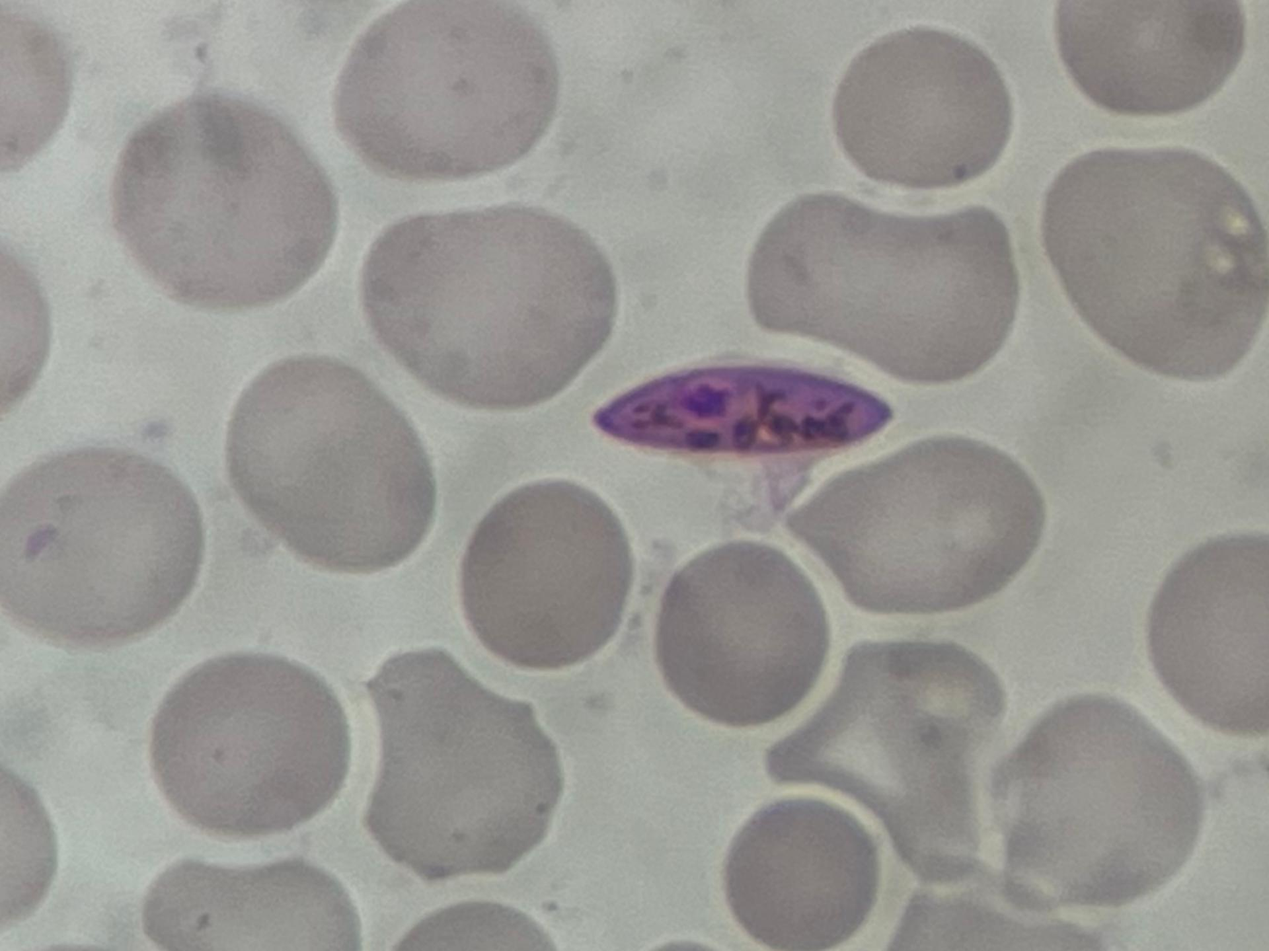Infected: (597, 360, 890, 458)
Uninfected: (760, 640, 1000, 882), (357, 203, 623, 415), (747, 188, 1019, 390), (1040, 146, 1269, 383), (110, 89, 339, 315), (225, 353, 444, 578), (357, 653, 568, 884), (987, 692, 1210, 909), (791, 437, 1049, 614), (0, 448, 201, 655), (344, 0, 561, 176), (154, 657, 351, 844), (463, 477, 637, 672), (661, 540, 833, 725), (837, 23, 1018, 187), (727, 798, 883, 951), (1152, 529, 1269, 728), (1049, 0, 1248, 115)
